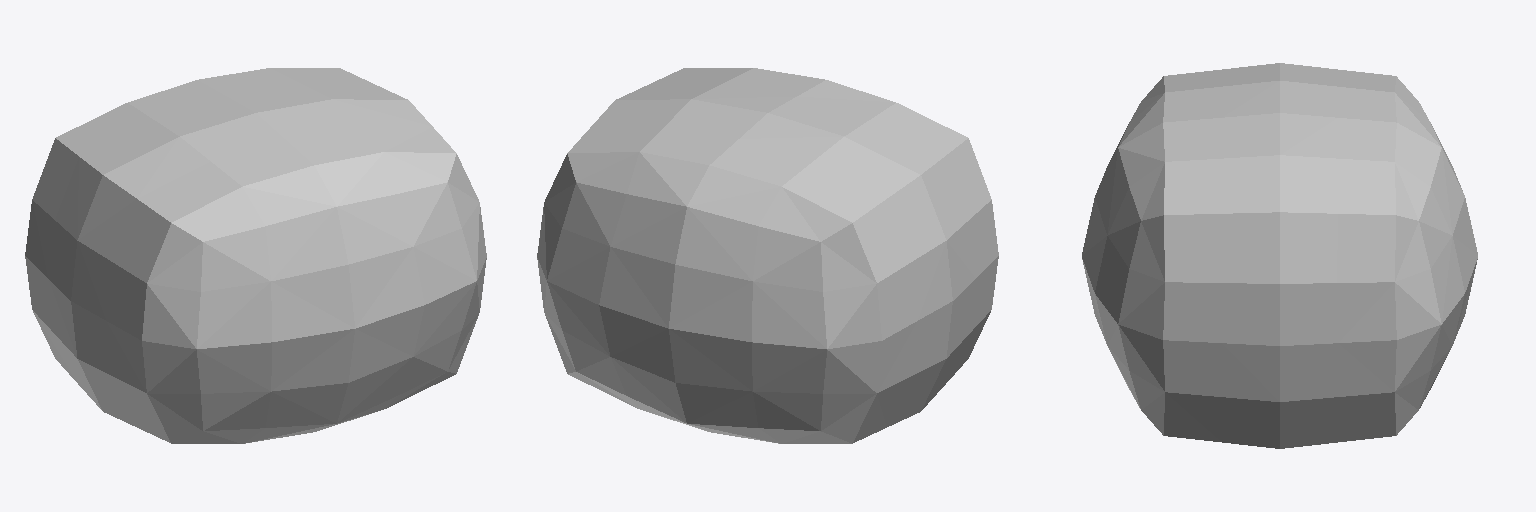
The model's file is squaremorph_baseline.obj.
3 views of the same model, side by side, from view 1: azimuth 30°, elevation 25°; view 2: azimuth 150°, elevation 25°; view 3: azimuth 270°, elevation 25° (orthographic).
Parts seen in each view (by area): view 1: Cube1; view 2: Cube1; view 3: Cube1.
Part boxes in pixels (x1,y1,x2,y2): Cube1: (25,68,486,443); Cube1: (537,68,998,443); Cube1: (1082,63,1477,448).
Bounding box in the file's own units: 1.01 × 0.75 × 0.9432.